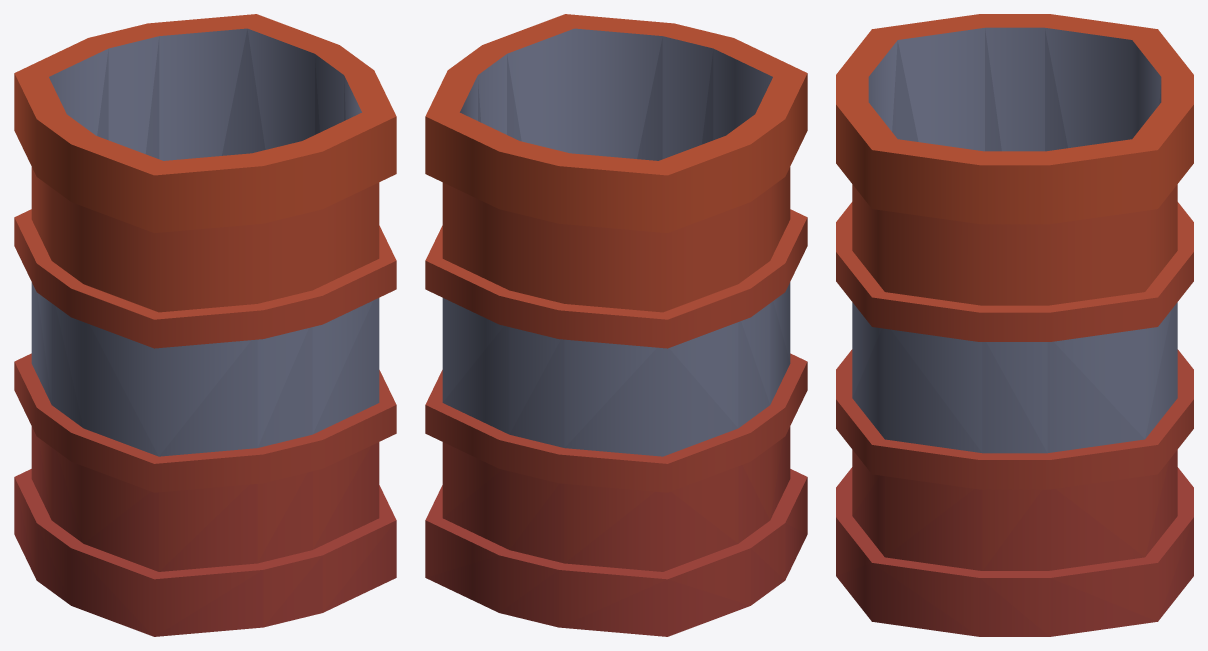
File: survival_barrel_open.glb
The picture shows the model from 3 angles, left to right: view 1: azimuth 30°, elevation 25°; view 2: azimuth 150°, elevation 25°; view 3: azimuth 270°, elevation 25°; orthographic projection. The views are drawn at different scales.
Parts seen in each view (by area): view 1: survival_barrel_open; view 2: survival_barrel_open; view 3: survival_barrel_open.
Part boxes in pixels (x1,y1,x2,y2): survival_barrel_open: (14, 14, 396, 636); survival_barrel_open: (425, 14, 807, 636); survival_barrel_open: (836, 14, 1193, 636).
Size of the model in its own units: 0.2365 by 0.344 by 0.2365.
